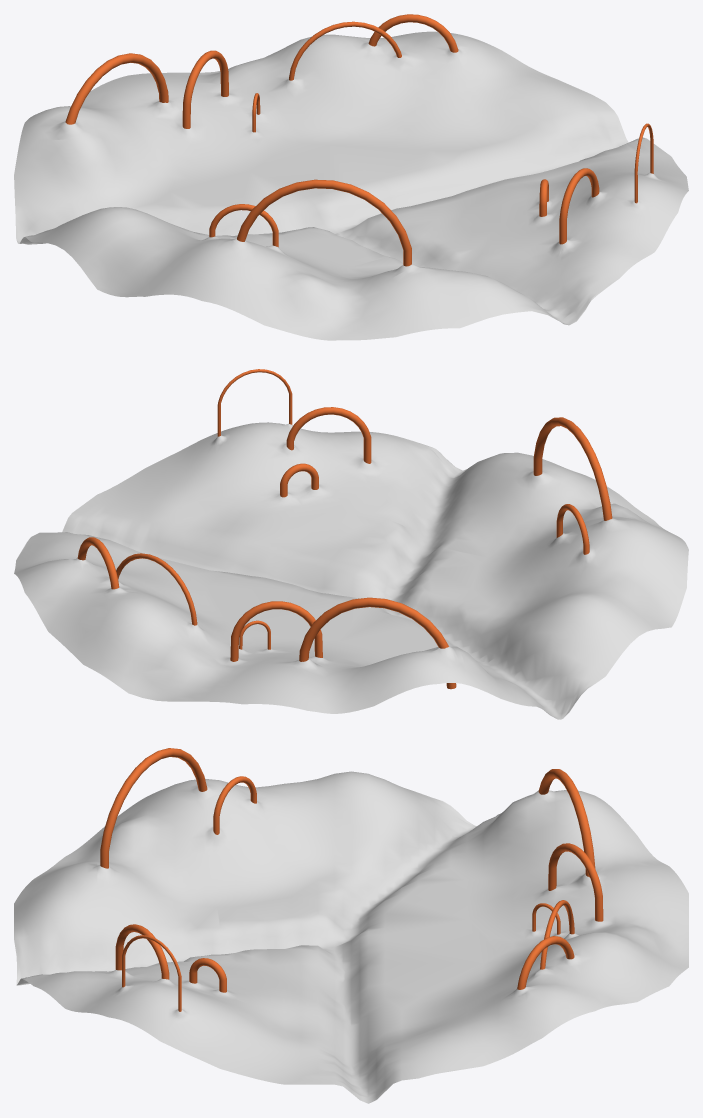
File: TERRAIN (1).fbx
3 renders of one model, top to bottom at view 1: azimuth 30°, elevation 25°; view 2: azimuth 150°, elevation 25°; view 3: azimuth 270°, elevation 25°, orthographic.
Visible parts, largest first — view 1: Terrain; view 2: Terrain; view 3: Terrain.
Boxes of the visible parts, x1,y1,x2,y2 form: Terrain: (14,14,688,340); Terrain: (14,369,688,719); Terrain: (14,748,688,1103).
Bounding box in the file's own units: 1962 × 466 × 1962.
